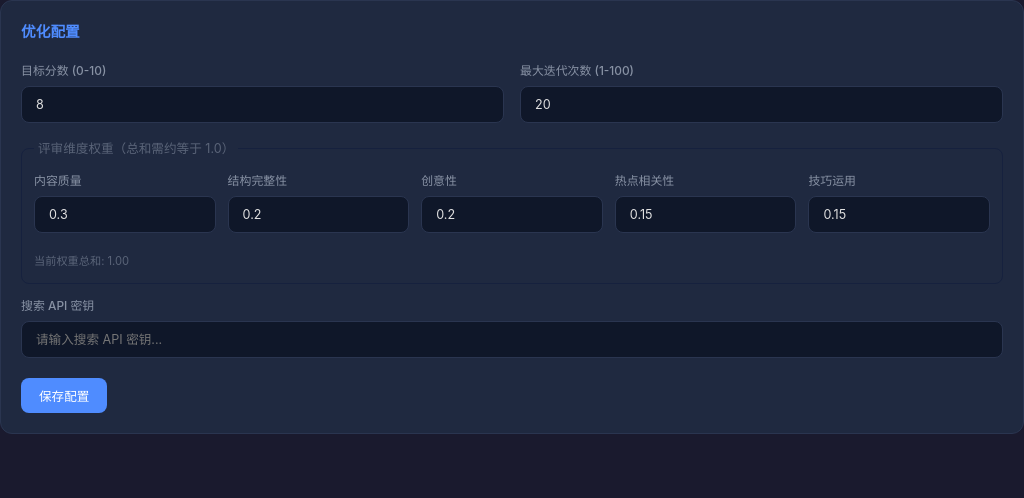
Test: ConfigPanel › shows validation error when weights do not sum to 1.0
# Set one weight to 0 so the sum is no longer ~1.0
Replace the text in the number field labelled "内容质量" with "0" at (125,214), box [34, 196, 216, 233]
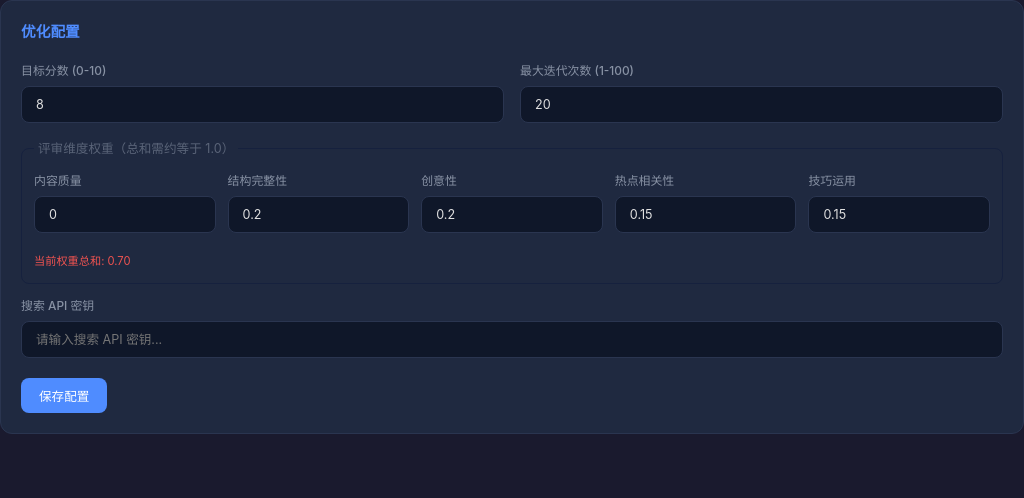
Click the button "保存配置" at (64,395), box [21, 378, 107, 413]
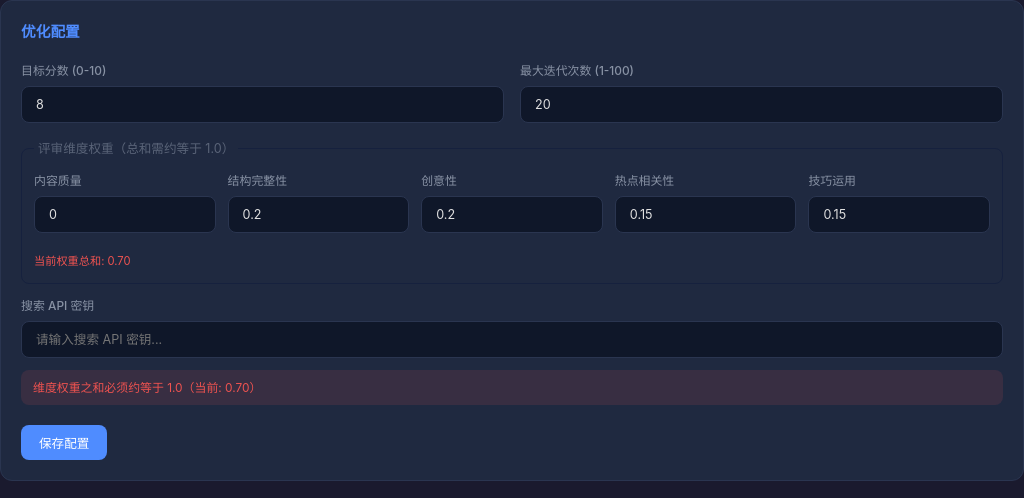
Result: the message "维度权重之和必须约等于 1.0（当前: 0.70）" is shown at [21, 370, 1003, 405]
Result: the message with test id "validation-error" shows "维度权重之和必须约等于 1.0" at [33, 380, 261, 395]
